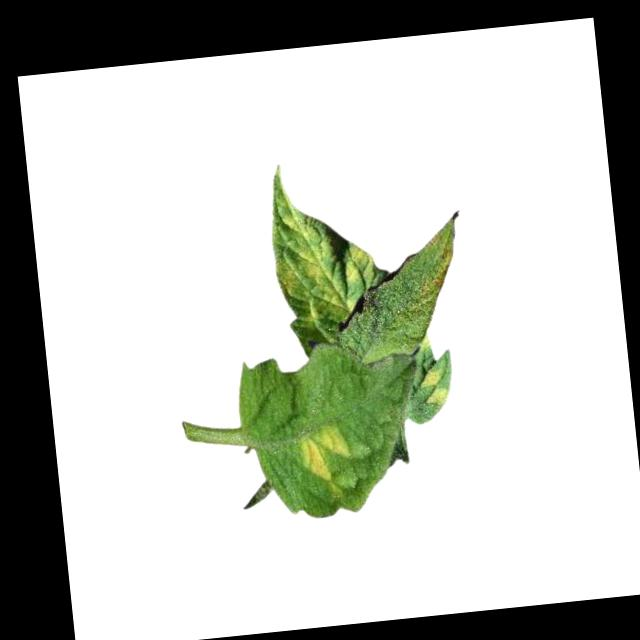Leaf_Mold: (260, 170, 380, 327), (297, 420, 354, 481), (416, 362, 453, 409)
